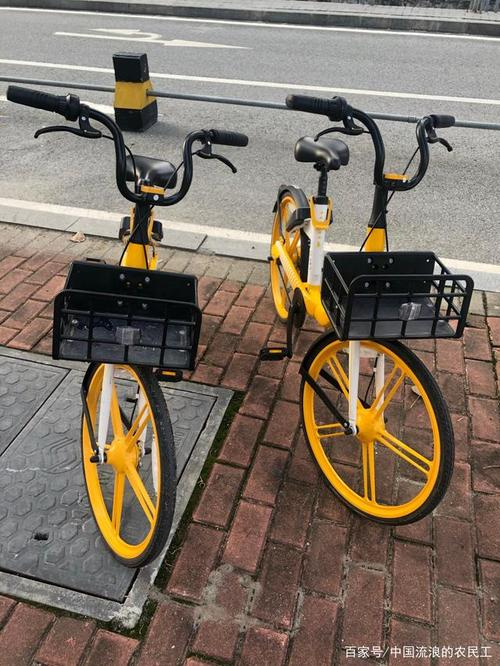单车: (4, 59, 251, 579), (267, 62, 490, 562)
